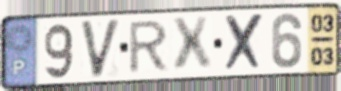6: (270, 11, 304, 70)
9: (42, 21, 75, 80)
R: (127, 18, 171, 76)
V: (78, 17, 123, 81)
X: (169, 15, 214, 76), (224, 11, 266, 73)
